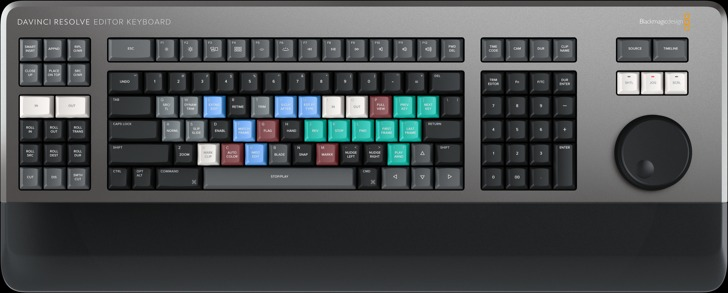keyboard: (6, 11, 723, 288)
